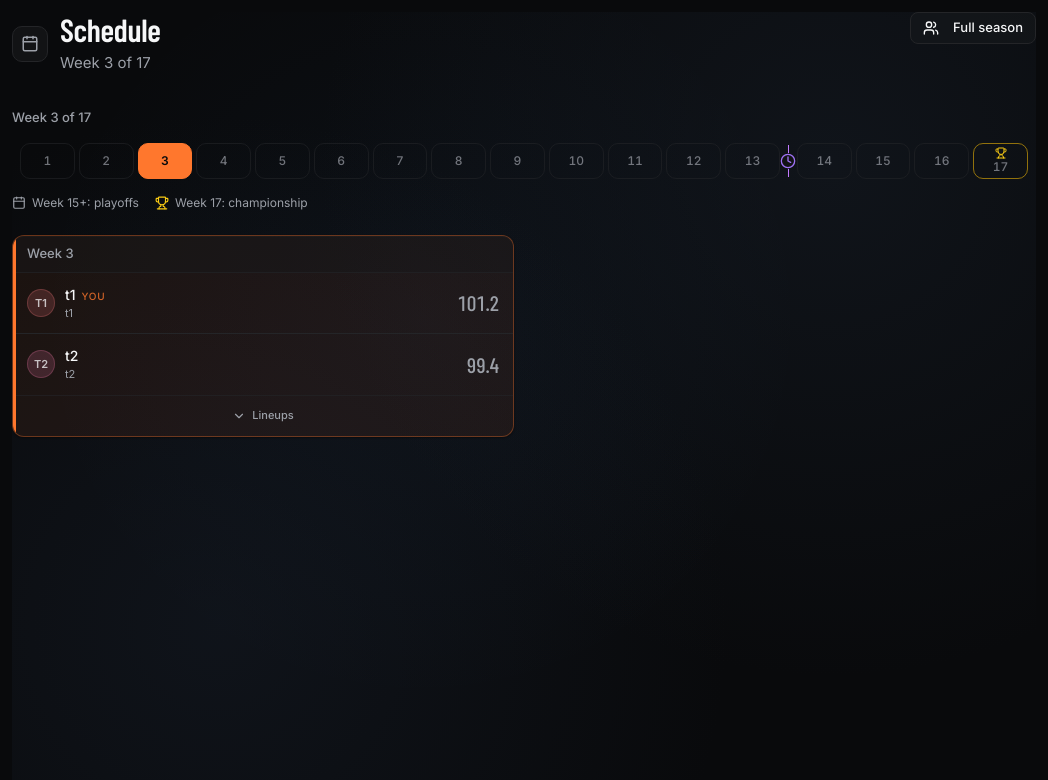
it: ScheduleManager lineups › says so, rather than rendering an empty column, when a week has no lineups
The image size is (1048, 780).
Click the button "Lineups" at x=263, y=416, box [13,396,513,436]
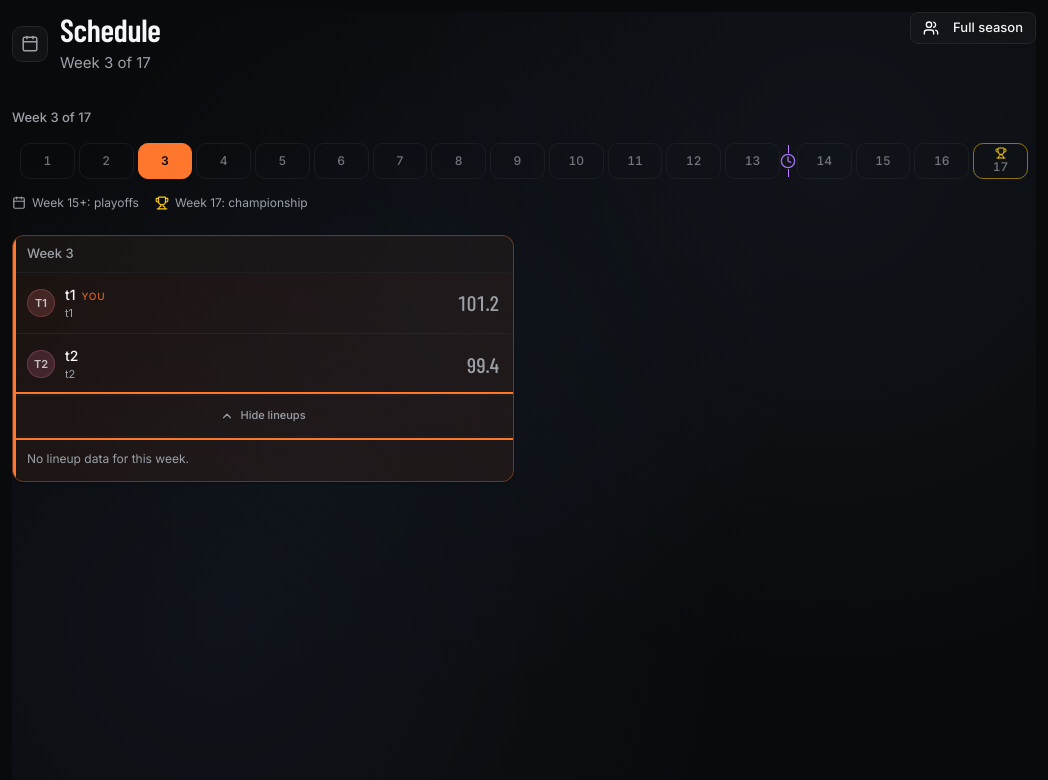
Check: the text "No lineup data for this week." is shown, box [13,436,513,481]
